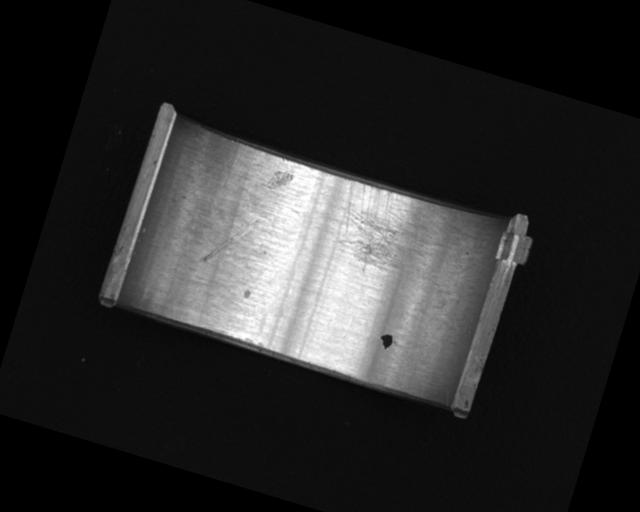blot: (376, 331, 395, 351)
bruise: (263, 165, 295, 195), (241, 287, 252, 301)
nick: (201, 206, 258, 273)
scratch: (326, 178, 474, 299)
